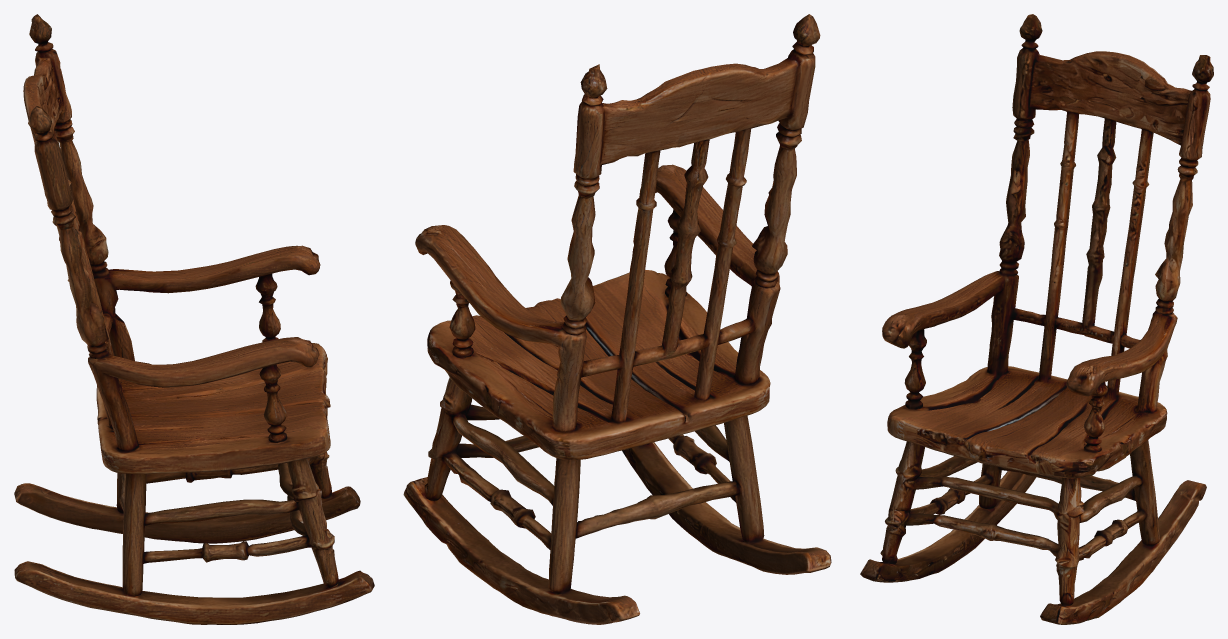
3 renders of one model, left to right at view 1: azimuth 30°, elevation 25°; view 2: azimuth 150°, elevation 25°; view 3: azimuth 270°, elevation 25°, orthographic. The views are drawn at different scales.
Visible parts, largest first — view 1: tripo_node_0798a144-d9a7-4eb8-af54-a58d7780d1f1; view 2: tripo_node_0798a144-d9a7-4eb8-af54-a58d7780d1f1; view 3: tripo_node_0798a144-d9a7-4eb8-af54-a58d7780d1f1.
Part boxes in pixels (x1,y1,x2,y2): tripo_node_0798a144-d9a7-4eb8-af54-a58d7780d1f1: (14, 14, 374, 624); tripo_node_0798a144-d9a7-4eb8-af54-a58d7780d1f1: (403, 14, 831, 624); tripo_node_0798a144-d9a7-4eb8-af54-a58d7780d1f1: (860, 14, 1213, 624).
Bounding box in the file's own units: 0.7198 × 1 × 0.658.
1 material, 1 textured.
